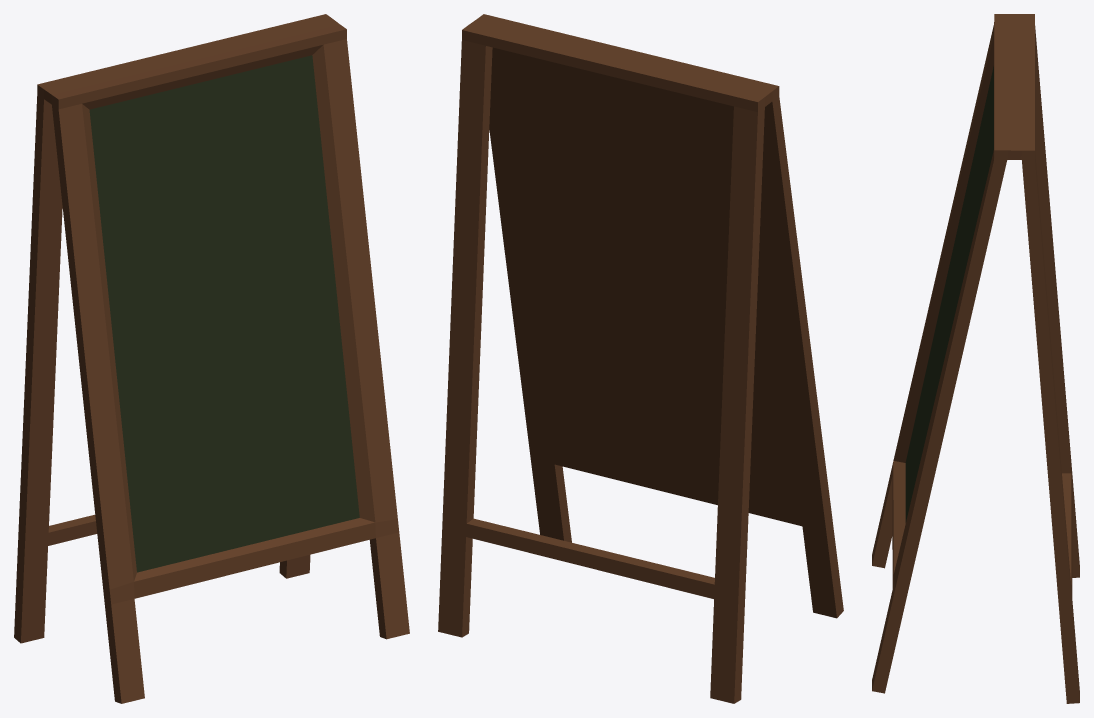
The model's file is blackboard with stand.fbx.
The picture shows the model from 3 angles, left to right: view 1: azimuth 30°, elevation 25°; view 2: azimuth 150°, elevation 25°; view 3: azimuth 270°, elevation 25°; orthographic projection. The views are drawn at different scales.
Visible parts, largest first — view 1: Plane; view 2: Plane; view 3: Plane.
Boxes of the visible parts, left/top/right/bottom form: Plane: left=14, top=14, right=409, bottom=703; Plane: left=438, top=14, right=843, bottom=703; Plane: left=872, top=14, right=1079, bottom=703.
Bounding box in the file's own units: 250 × 473 × 161.
